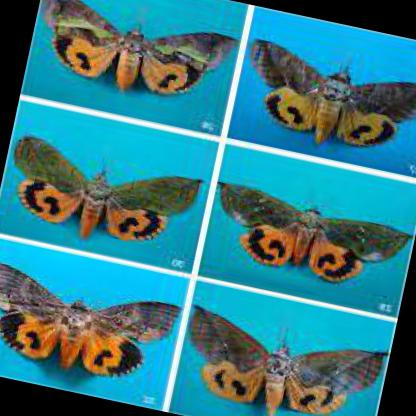fruit sucking moth: (187, 304, 385, 416), (12, 132, 200, 244), (0, 264, 180, 379), (219, 182, 413, 286), (41, 0, 241, 95), (251, 40, 416, 147)
